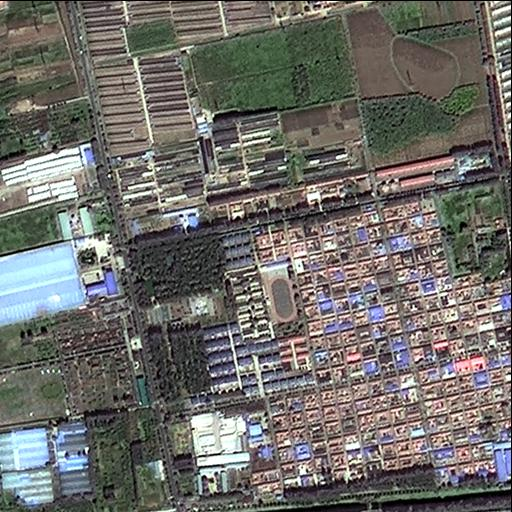school: (223, 256, 301, 347)
